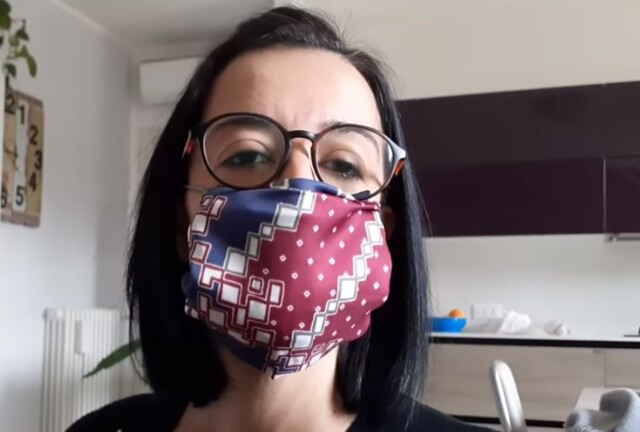face_with_mask: (168, 38, 406, 381)
